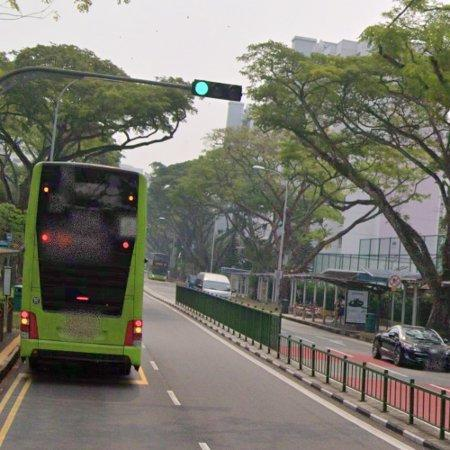buses: (20, 163, 146, 374)
